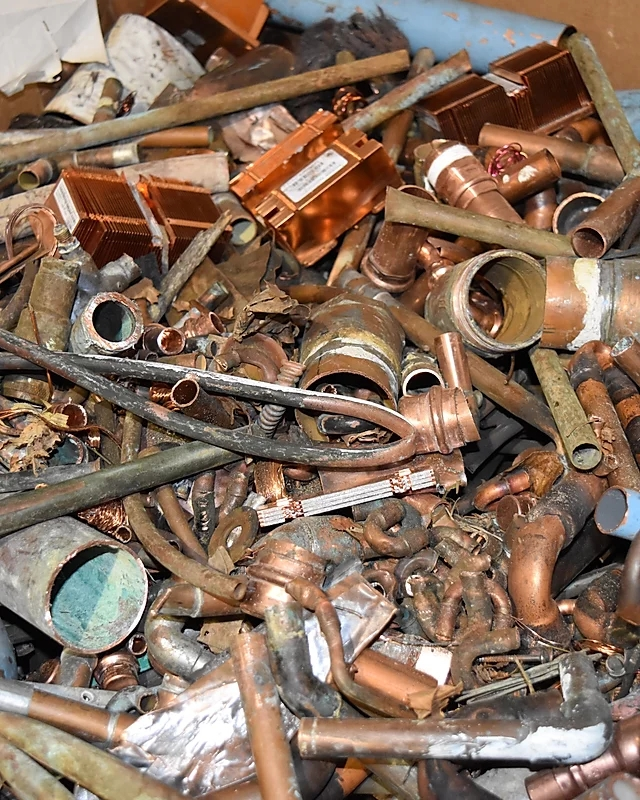metal: (1, 311, 426, 502), (1, 35, 461, 167), (1, 410, 287, 553), (228, 97, 419, 275), (282, 685, 626, 777), (409, 23, 606, 166), (1, 484, 153, 666), (282, 278, 430, 452), (489, 457, 621, 651), (378, 180, 640, 266), (343, 323, 505, 461), (213, 624, 331, 800), (405, 240, 560, 368), (28, 152, 160, 293), (411, 129, 547, 255), (130, 161, 237, 299), (520, 327, 616, 480), (330, 42, 483, 135), (1, 670, 171, 752), (131, 578, 224, 678), (569, 152, 640, 273), (358, 490, 435, 561)
